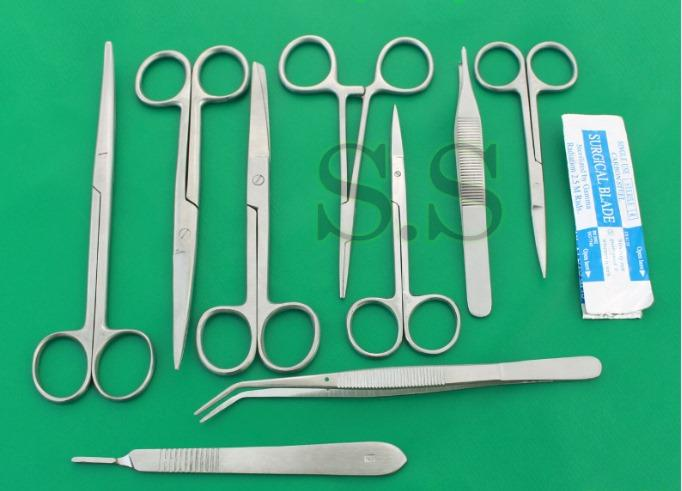Disscting Forceps: (191, 348, 612, 425), (447, 43, 502, 322)
Knife Handle: (66, 437, 420, 483)
